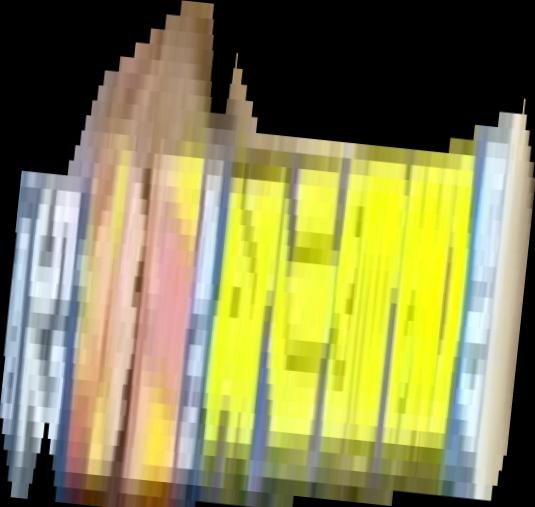flat: (1, 1, 535, 507)
